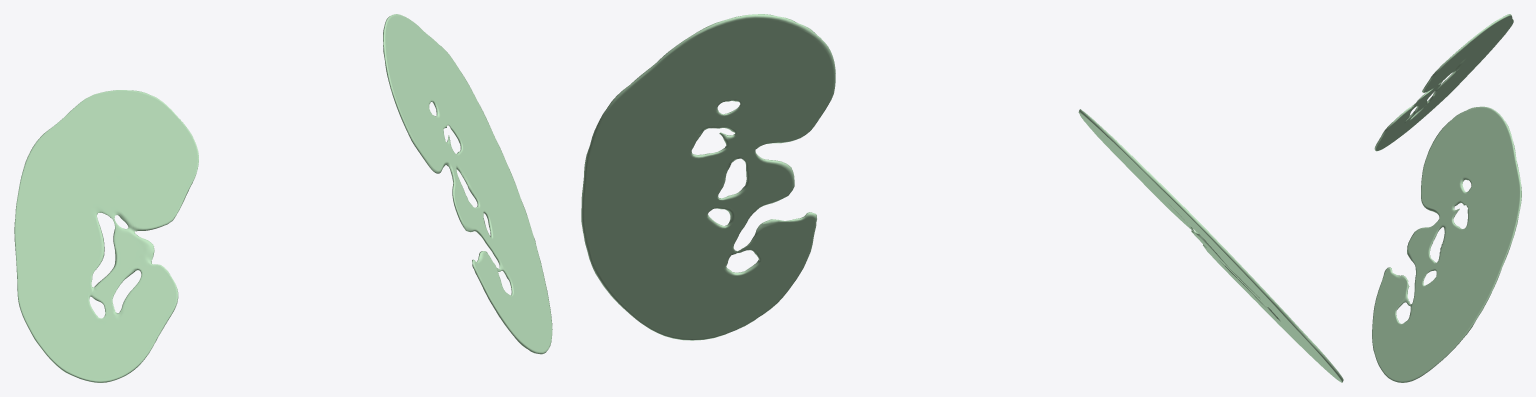
Rendered from 3d-vh-f-kidney-extraction.glb.
3 renders of one model, left to right at view 1: azimuth 30°, elevation 25°; view 2: azimuth 150°, elevation 25°; view 3: azimuth 270°, elevation 25°, orthographic. The views are drawn at different scales.
Visible parts, largest first — view 1: VH_F_kidney_bisection_line_R, VH_F_kidney_bisection_line_L; view 2: VH_F_kidney_bisection_line_L, VH_F_kidney_bisection_line_R; view 3: VH_F_kidney_bisection_line_L, VH_F_kidney_bisection_line_R.
Part boxes in pixels (left/top/right/bottom): VH_F_kidney_bisection_line_R: left=14, top=90, right=198, bottom=382; VH_F_kidney_bisection_line_L: left=383, top=14, right=552, bottom=354; VH_F_kidney_bisection_line_L: left=581, top=14, right=835, bottom=340; VH_F_kidney_bisection_line_R: left=1078, top=109, right=1343, bottom=382; VH_F_kidney_bisection_line_L: left=1372, top=106, right=1521, bottom=382; VH_F_kidney_bisection_line_R: left=1374, top=14, right=1513, bottom=151.
Size of the model in its own units: 0.2096 by 0.1181 by 0.0677.
